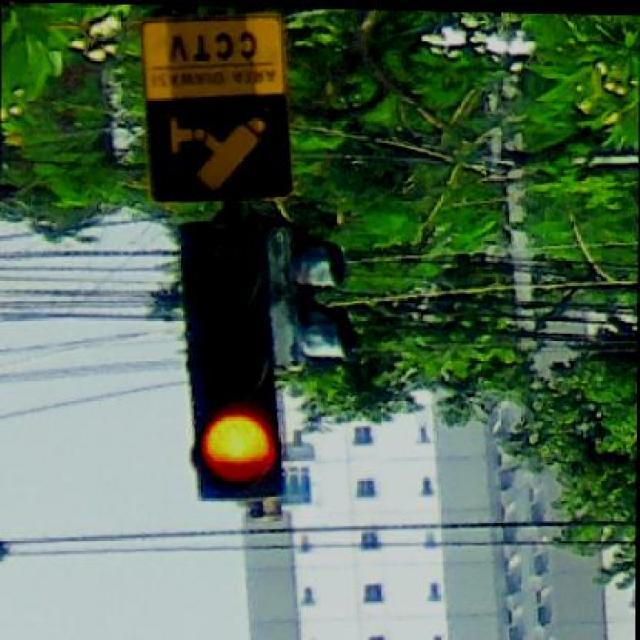traffic light: (179, 218, 287, 502), (267, 224, 357, 368), (291, 233, 357, 364)
